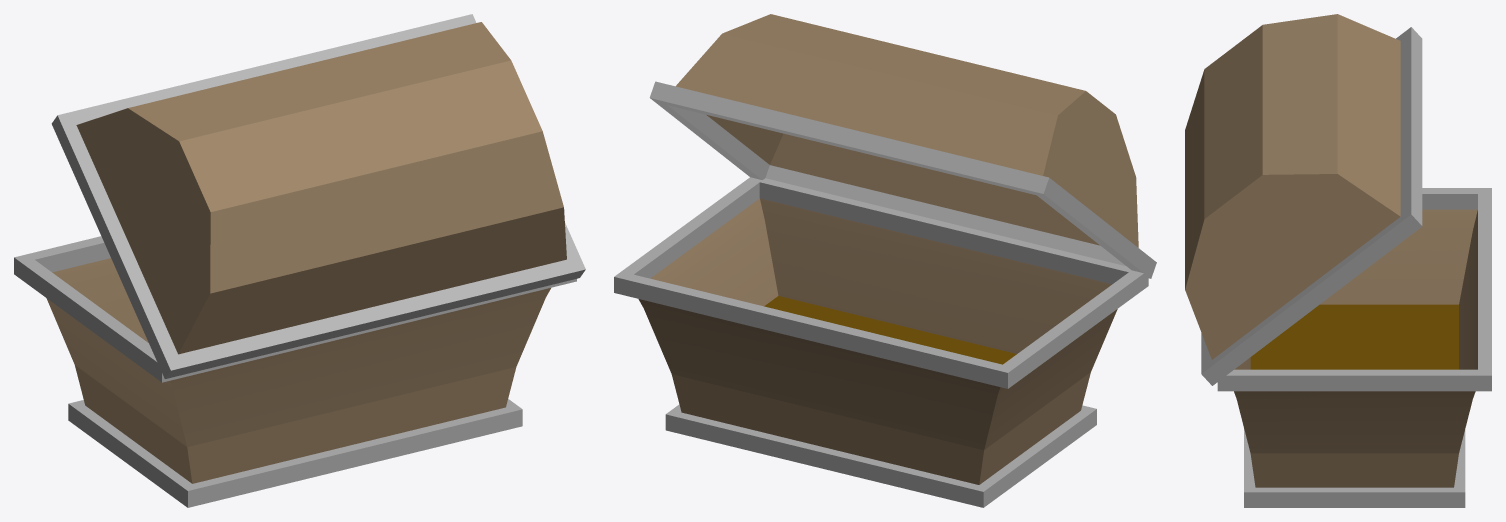
File: Treasure_Chest_01_open.fbx
The picture shows the model from 3 angles, left to right: view 1: azimuth 30°, elevation 25°; view 2: azimuth 150°, elevation 25°; view 3: azimuth 270°, elevation 25°; orthographic projection. The views are drawn at different scales.
Parts seen in each view (by area): view 1: Treasure_Chest_Lid_01.001, Treasure_Chest_Base_01.001, Treasure_Chest_Lid_01, Treasure_Chest_Base_01; view 2: Treasure_Chest_Base_01.001, Treasure_Chest_Lid_01.001, Treasure_Chest_Base_01, Treasure_Chest_Lid_01; view 3: Treasure_Chest_Lid_01.001, Treasure_Chest_Base_01.001, Treasure_Chest_Lid_01, Treasure_Chest_Base_01.
Part boxes in pixels (x1,y1,x2,y2): Treasure_Chest_Lid_01.001: (51,14,585,378); Treasure_Chest_Base_01.001: (14,236,576,507); Treasure_Chest_Lid_01: (52,18,584,377); Treasure_Chest_Base_01: (14,236,576,504); Treasure_Chest_Base_01.001: (614,177,1148,507); Treasure_Chest_Lid_01.001: (649,14,1156,278); Treasure_Chest_Base_01: (614,178,1148,507); Treasure_Chest_Lid_01: (652,14,1155,277); Treasure_Chest_Lid_01.001: (1185,14,1422,385); Treasure_Chest_Base_01.001: (1217,188,1491,507); Treasure_Chest_Lid_01: (1185,15,1422,384); Treasure_Chest_Base_01: (1217,188,1491,507).
Bounding box in the file's own units: 96.09 × 80.8 × 66.41.
